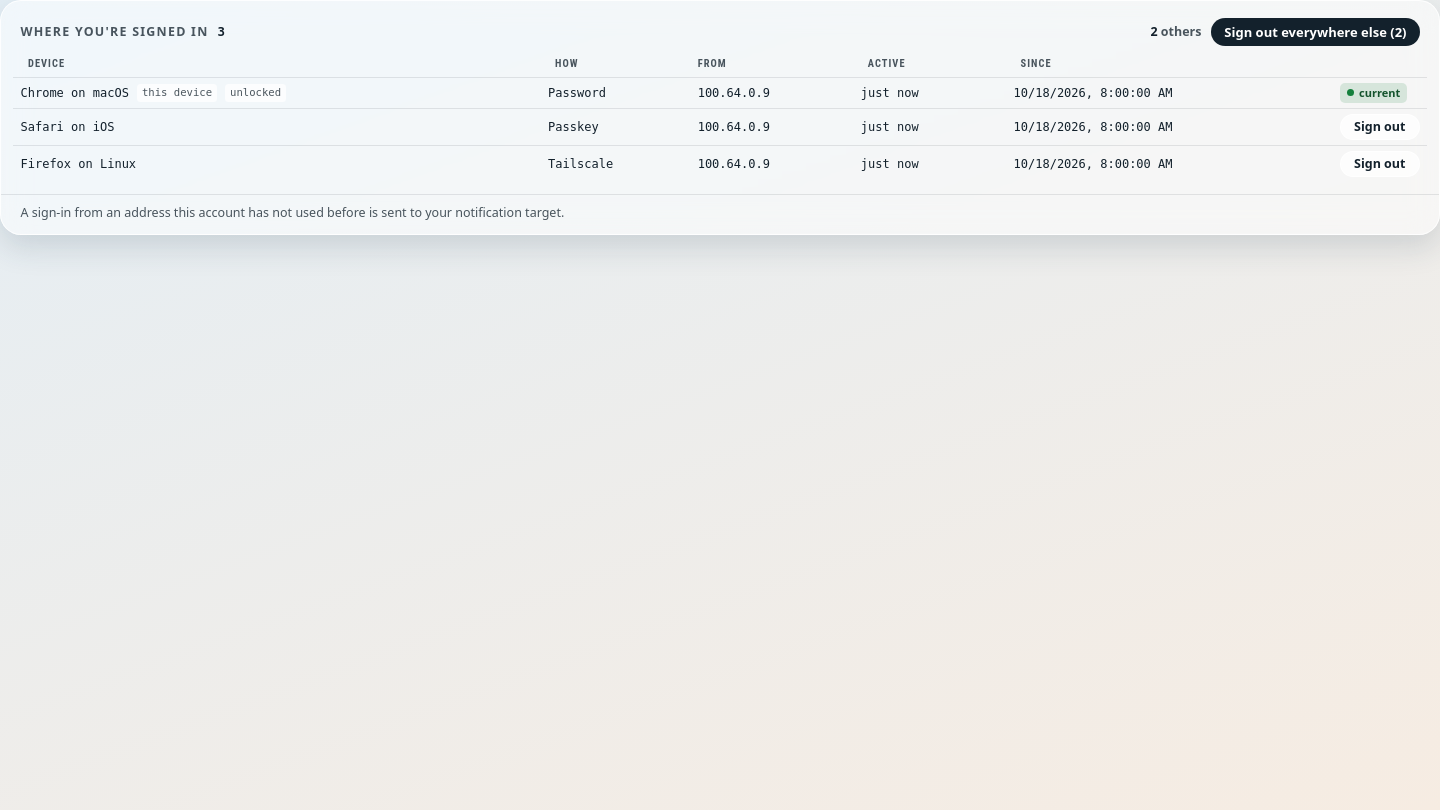
Where you're signed in › says why a sign-out was refused
The image size is (1440, 810).
Click the button with aria-label "Sign out Firefox on Linux" at (1380, 164), box x1=1340 y1=151 x2=1420 y2=177
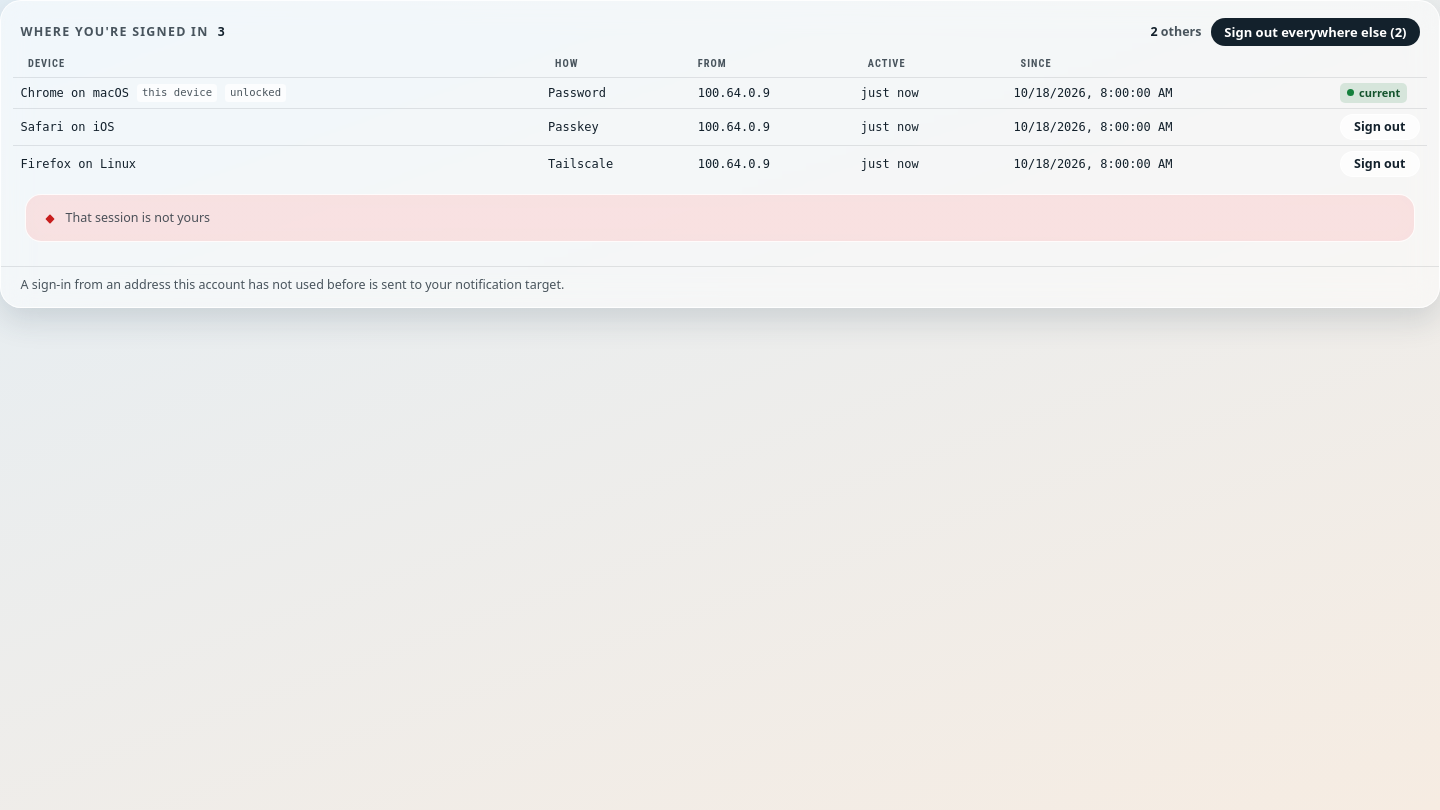
Now the text "That session is not yours" is shown, box x1=66 y1=209 x2=210 y2=226
